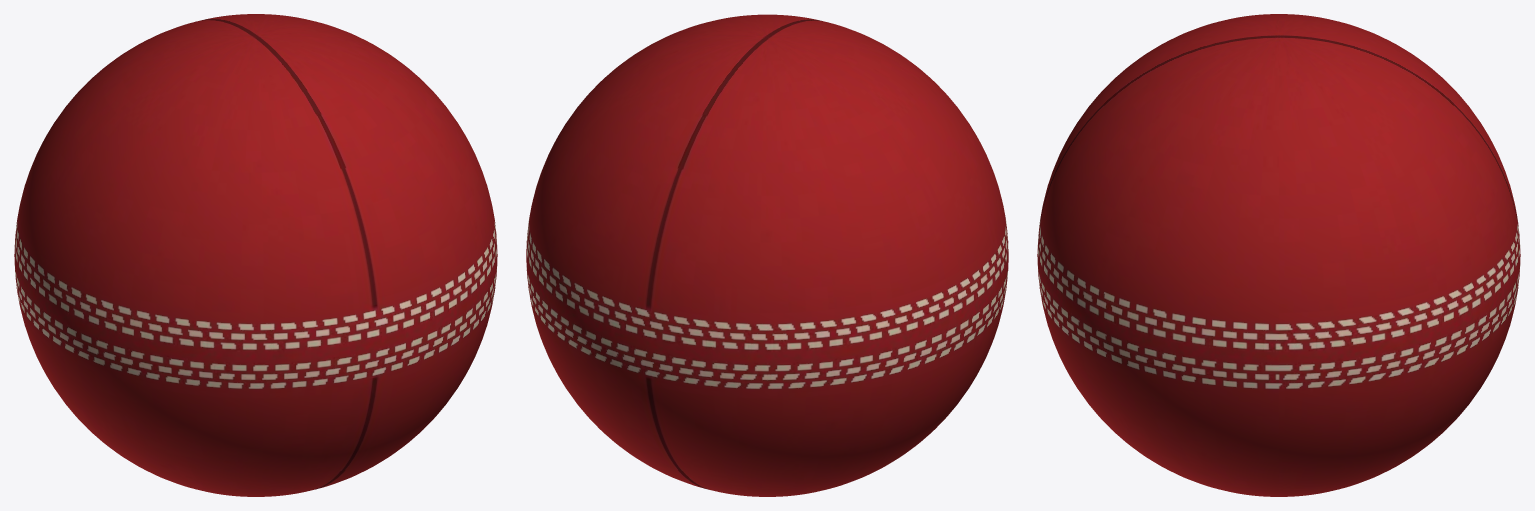
The model's file is ball-cricket-red.glb.
3 views of the same model, side by side, from view 1: azimuth 30°, elevation 25°; view 2: azimuth 150°, elevation 25°; view 3: azimuth 270°, elevation 25° (orthographic).
Parts seen in each view (by area): view 1: Ball; view 2: Ball; view 3: Ball.
Part boxes in pixels (x1=…): Ball: x1=14, y1=14, x2=497, y2=496; Ball: x1=526, y1=14, x2=1008, y2=496; Ball: x1=1037, y1=14, x2=1520, y2=496.
Size of the model in its own units: 0.072 by 0.072 by 0.072.
2 materials, 2 textured.
